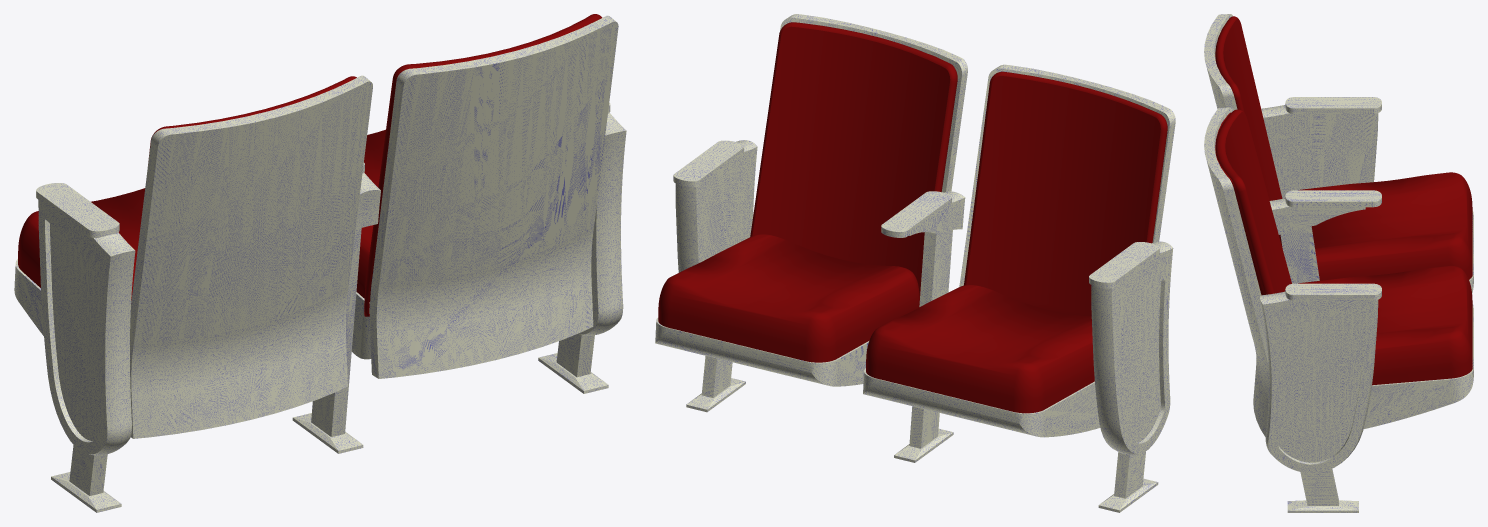
3 renders of one model, left to right at view 1: azimuth 30°, elevation 25°; view 2: azimuth 150°, elevation 25°; view 3: azimuth 270°, elevation 25°, orthographic. The views are drawn at different scales.
Parts seen in each view (by area): view 1: Component_2 (×2), Seat_Arm (×5), group_2 (×2), Seat_Arm_1 (×2), Component_3 (×2), group_4, group_1 (×2); view 2: Component_3 (×2), group_2 (×2), Seat_Arm (×5), group_1 (×2), Component_2 (×2), Seat_Arm_1 (×2), group_4 (×2), group_5; view 3: Seat_Arm (×4), group_2 (×2), Component_3 (×2), Component_2 (×2), group_1, group_4 (×2), Seat_Arm_1 (×2), group_5.
Part boxes in pixels (<box>): Component_2 (×2): <box>130,15,618,438</box>; Seat_Arm (×5): <box>38,112,626,512</box>; group_2 (×2): <box>18,129,385,300</box>; Seat_Arm_1 (×2): <box>292,172,380,453</box>; Component_3 (×2): <box>148,14,602,316</box>; group_4: <box>36,183,119,237</box>; group_1 (×2): <box>14,259,371,359</box>; Component_3 (×2): <box>750,22,1167,316</box>; group_2 (×2): <box>658,234,1094,413</box>; Seat_Arm (×5): <box>675,140,1173,512</box>; group_1 (×2): <box>655,317,1100,437</box>; Component_2 (×2): <box>780,14,1175,286</box>; Seat_Arm_1 (×2): <box>894,191,965,462</box>; group_4 (×2): <box>673,140,1159,288</box>; group_5: <box>881,191,951,237</box>; Seat_Arm (×4): <box>1260,105,1378,512</box>; group_2 (×2): <box>1279,172,1472,385</box>; Component_3 (×2): <box>1215,16,1291,295</box>; Component_2 (×2): <box>1204,14,1268,436</box>; group_1: <box>1363,304,1473,428</box>; group_4 (×2): <box>1285,97,1381,300</box>; Seat_Arm_1 (×2): <box>1269,198,1365,283</box>; group_5: <box>1285,190,1381,207</box>.
Bounding box in the file's own units: 44.49 × 25.63 × 33.41.
